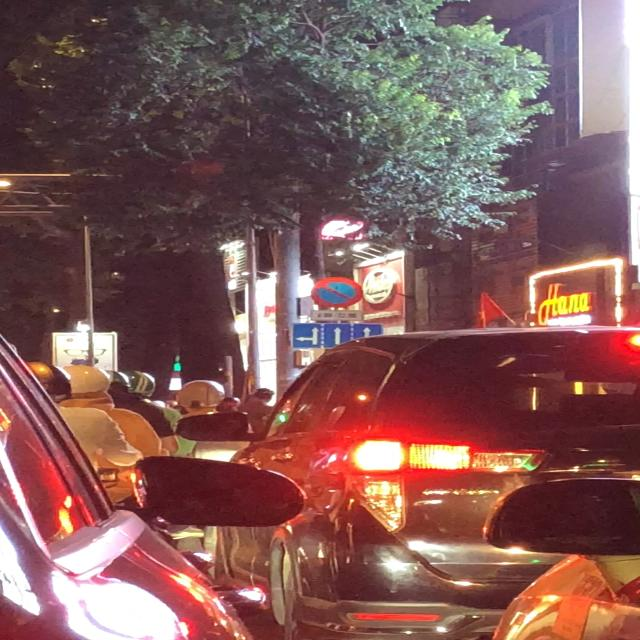Bien bao cam do xe: (310, 276, 368, 309)
